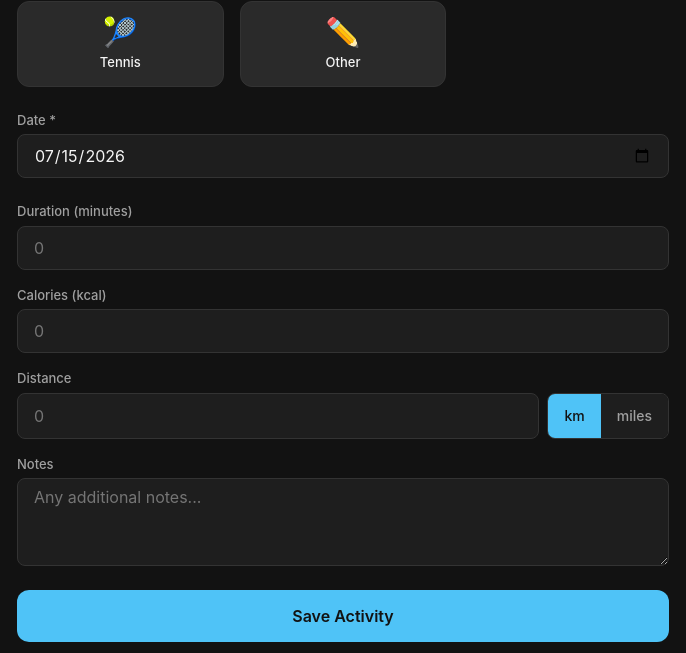
Scenario: ActivityLogPage › Validation: activity type and date required (Req 9.5) › clears activity type error when user selects an activity
(page scrolled)
// Trigger validation error
Click the button with test id "submit-button" at (343, 616), box [17, 590, 669, 642]
(page scrolled)
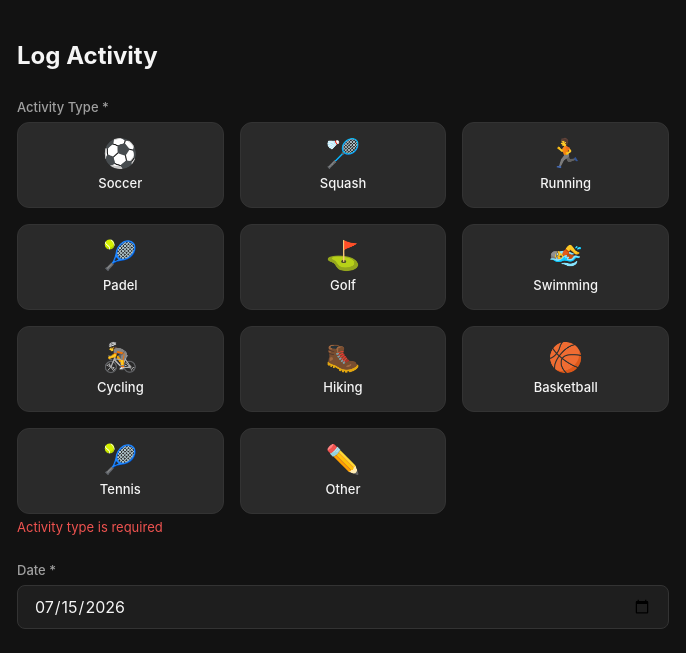
Expected: the message "Activity type is required" is shown, [17, 518, 163, 534]
// Select an activity
Click the button with test id "activity-tile-soccer" at (120, 164), box [17, 122, 224, 208]
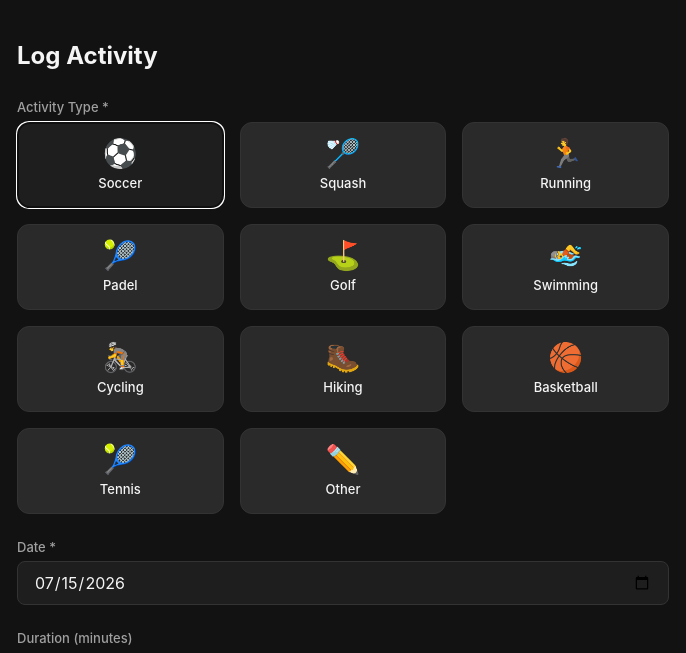
Expected: the message with test id "error-activity-type" is gone
